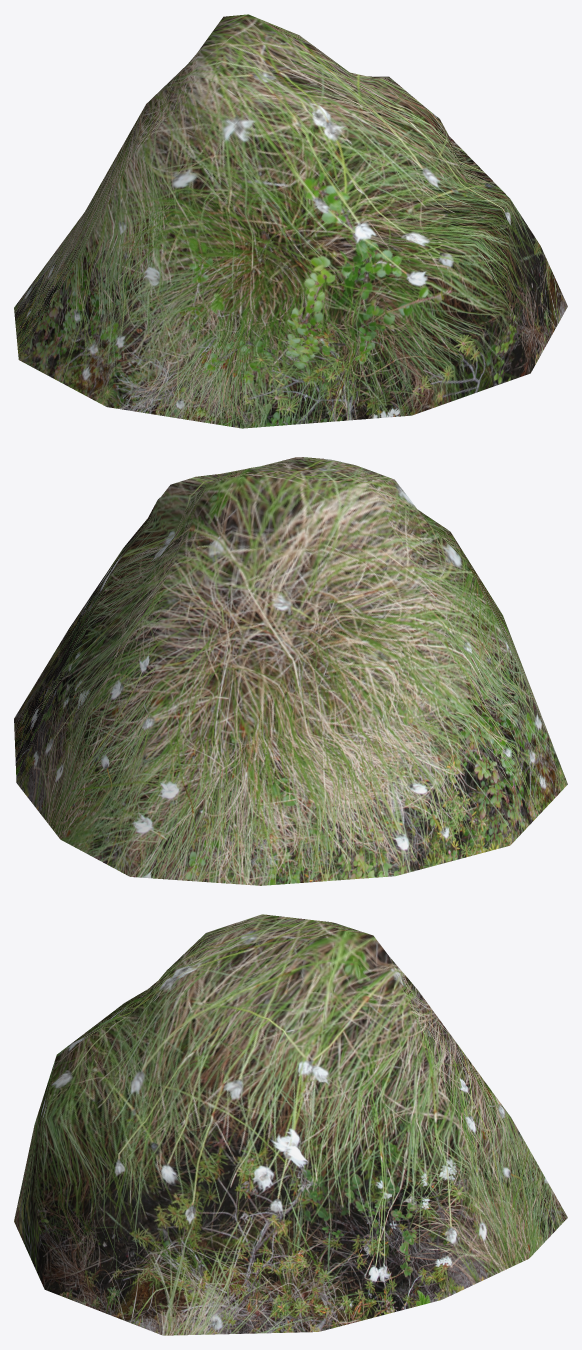
File: BearShit.fbx
3 views of the same model, one above another, from view 1: azimuth 30°, elevation 25°; view 2: azimuth 150°, elevation 25°; view 3: azimuth 270°, elevation 25° (orthographic). The views are drawn at different scales.
Parts seen in each view (by area): view 1: Sphere; view 2: Sphere; view 3: Sphere.
Part boxes in pixels (left/top/right/bottom): Sphere: left=14, top=14, right=567, bottom=428; Sphere: left=14, top=457, right=567, bottom=885; Sphere: left=14, top=914, right=567, bottom=1335.
Bounding box in the file's own units: 10.88 × 6.34 × 10.93.
